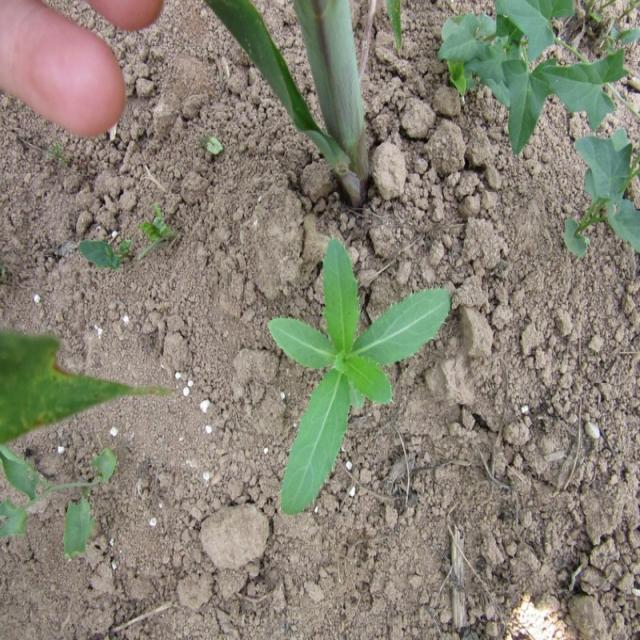cs: (266, 228, 454, 520)
